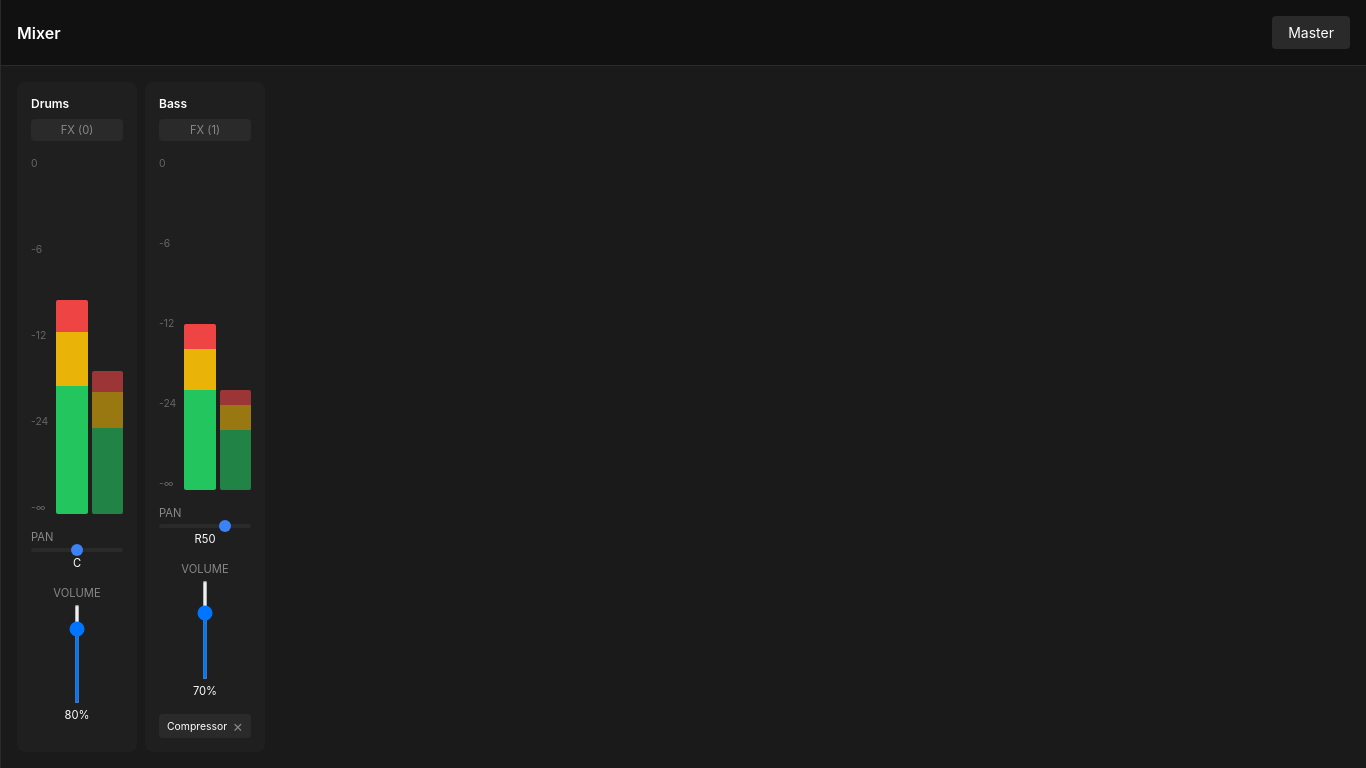
Scenario: MixerPanel › should show master bus panel when master button clicked
Click the button with test id "master-bus" at (1311, 32), box [1272,16,1350,49]
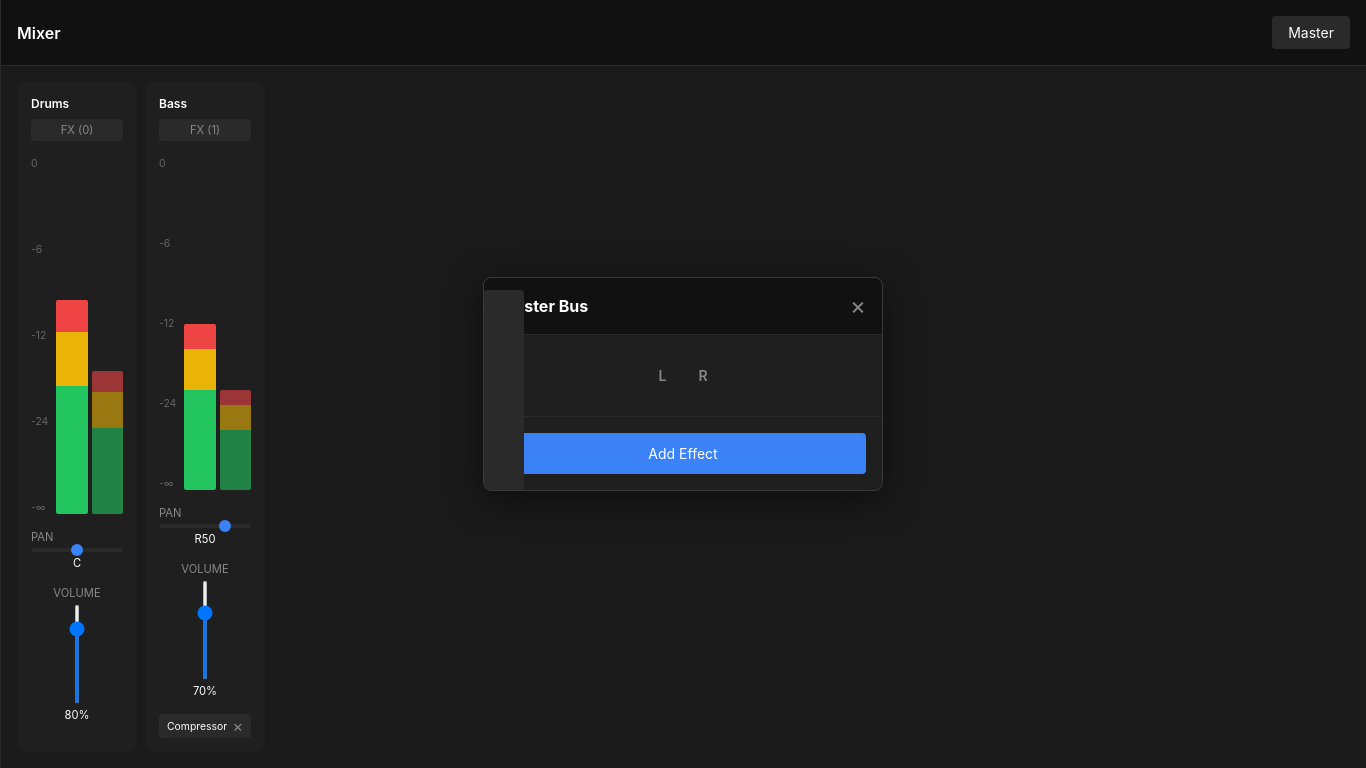
Check: the element with test id "master-bus-panel" is shown, box [483,277,883,491]
